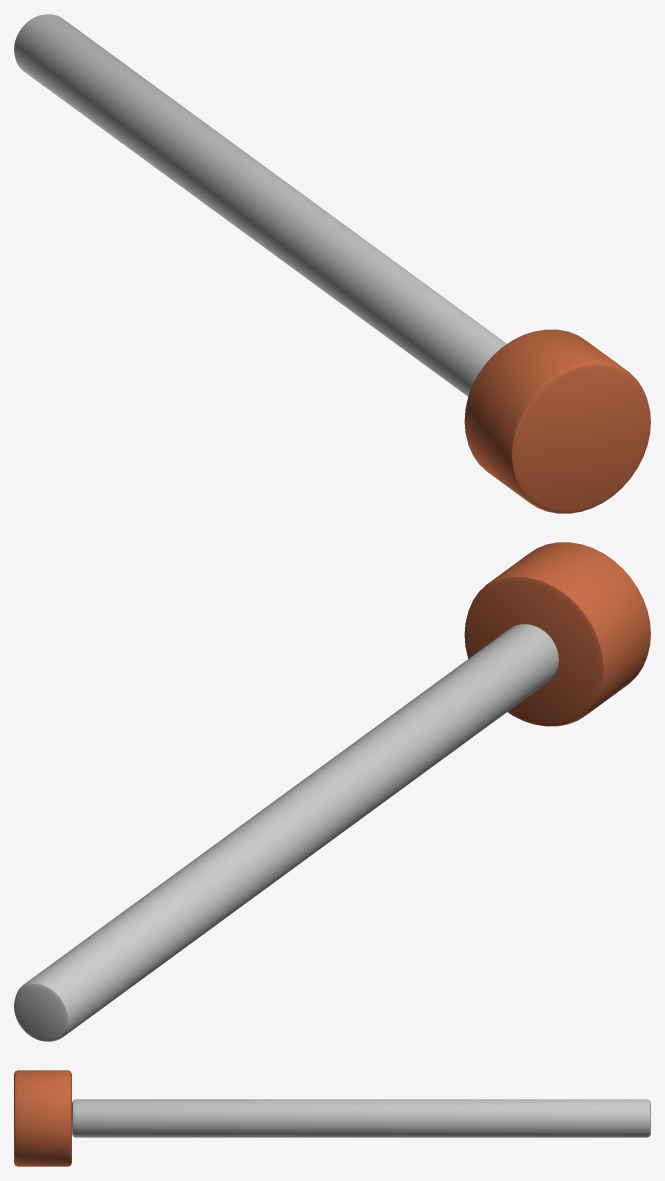
File: plunge_router_depth_rod.glb
3 renders of one model, top to bottom at view 1: azimuth 30°, elevation 25°; view 2: azimuth 150°, elevation 25°; view 3: azimuth 270°, elevation 25°, orthographic. The views are drawn at different scales.
Visible parts, largest first — view 1: plunge_router_depth_rod; view 2: plunge_router_depth_rod; view 3: plunge_router_depth_rod.
Boxes of the visible parts, bbox=[...] form: plunge_router_depth_rod: bbox=[14, 14, 650, 513]; plunge_router_depth_rod: bbox=[14, 542, 650, 1041]; plunge_router_depth_rod: bbox=[14, 1070, 650, 1166].
Bounding box in the file's own units: 0.02 × 0.02 × 0.132.
